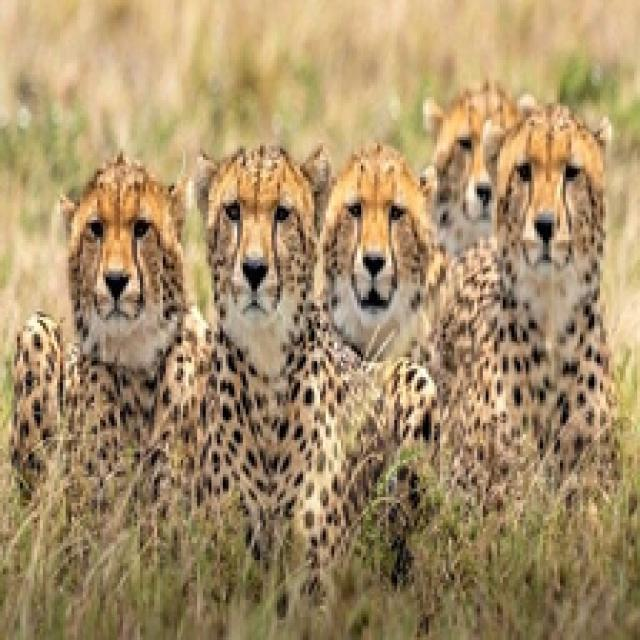cheetah: (15, 148, 258, 558), (447, 114, 640, 492), (174, 121, 321, 518), (325, 145, 441, 510), (401, 72, 549, 297)
